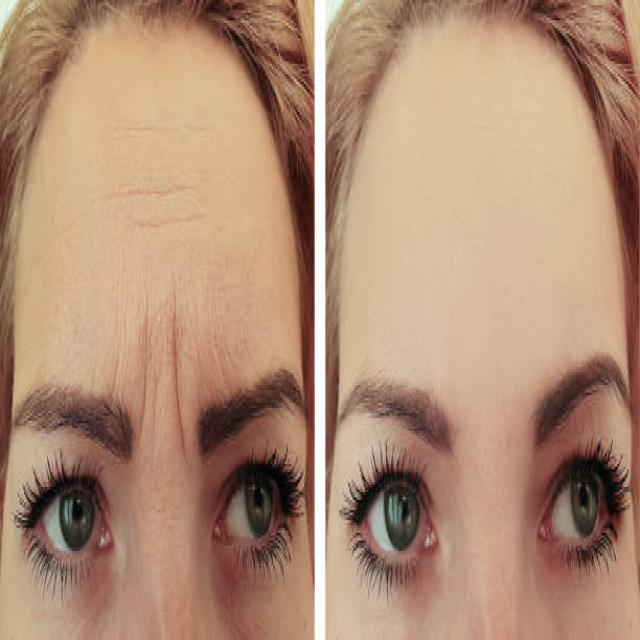Dry-Skin: (69, 95, 239, 424)
